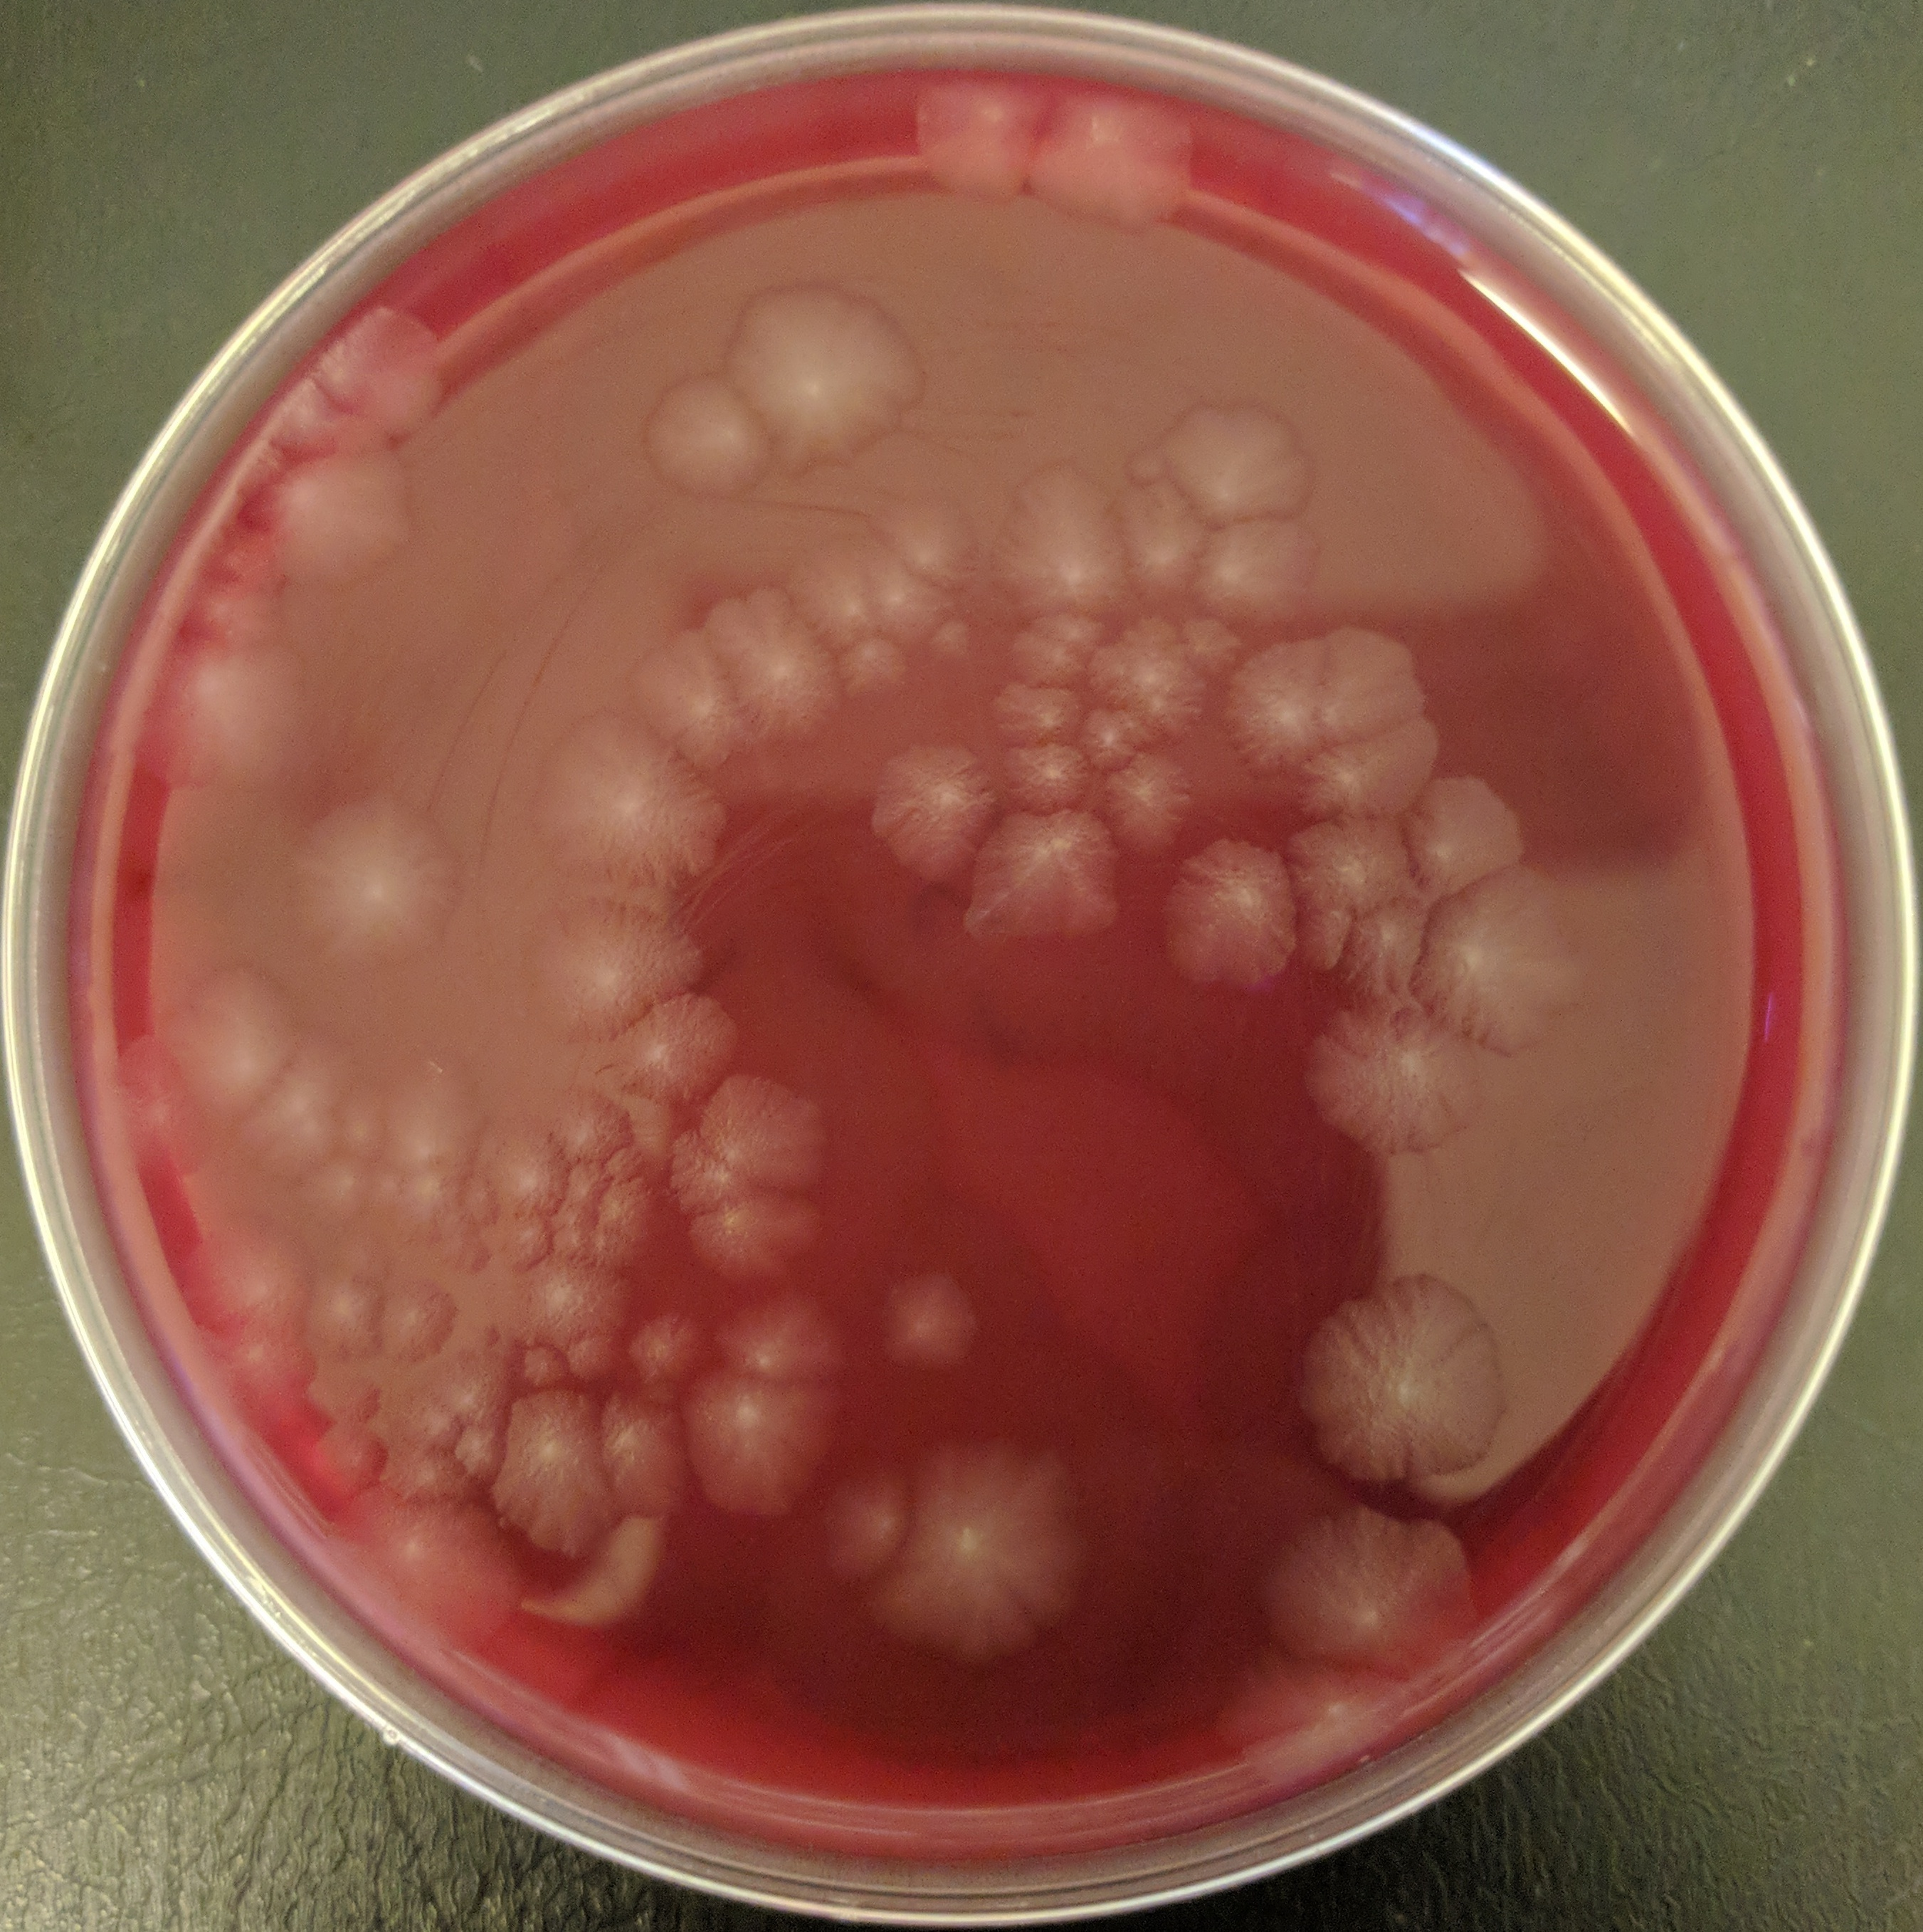sp08: (851, 1405, 1118, 1689), (1291, 1261, 1527, 1501), (261, 773, 486, 1004), (1243, 1490, 1485, 1684), (1234, 623, 1442, 840), (729, 266, 923, 488), (527, 703, 734, 902), (1418, 858, 1608, 1074), (1287, 988, 1504, 1168), (662, 1323, 870, 1506), (129, 942, 308, 1141), (141, 623, 354, 787), (606, 599, 796, 770), (241, 439, 435, 602), (527, 877, 711, 1046), (1155, 810, 1307, 1004), (479, 1374, 630, 1567), (986, 449, 1138, 634), (245, 1007, 373, 1224), (1037, 79, 1199, 240), (701, 585, 866, 741), (611, 361, 782, 512), (1206, 1664, 1404, 1791), (969, 801, 1138, 948), (1160, 384, 1326, 527), (682, 1058, 838, 1206), (1384, 764, 1541, 905), (859, 731, 993, 891), (1062, 604, 1222, 736), (771, 528, 940, 652), (166, 1213, 317, 1347), (907, 70, 1050, 211), (606, 974, 754, 1108), (673, 1152, 810, 1294), (354, 1044, 505, 1173), (1099, 468, 1233, 609), (1319, 891, 1462, 1023), (1277, 807, 1425, 933), (315, 308, 463, 435), (490, 1233, 646, 1351), (859, 472, 1002, 595), (789, 1430, 914, 1567), (1183, 491, 1312, 623), (706, 1289, 870, 1384), (873, 1261, 993, 1379), (363, 1261, 472, 1390), (285, 1250, 405, 1365), (977, 720, 1106, 817), (287, 1402, 387, 1501), (1099, 750, 1199, 840), (986, 609, 1109, 680), (977, 669, 1087, 741), (458, 1154, 555, 1235), (1277, 886, 1358, 976), (181, 581, 287, 650), (842, 629, 917, 710), (382, 1388, 463, 1460), (555, 1092, 616, 1173), (391, 1448, 460, 1516), (1079, 708, 1152, 770), (555, 1157, 622, 1206), (1122, 435, 1166, 498), (916, 623, 983, 657)
